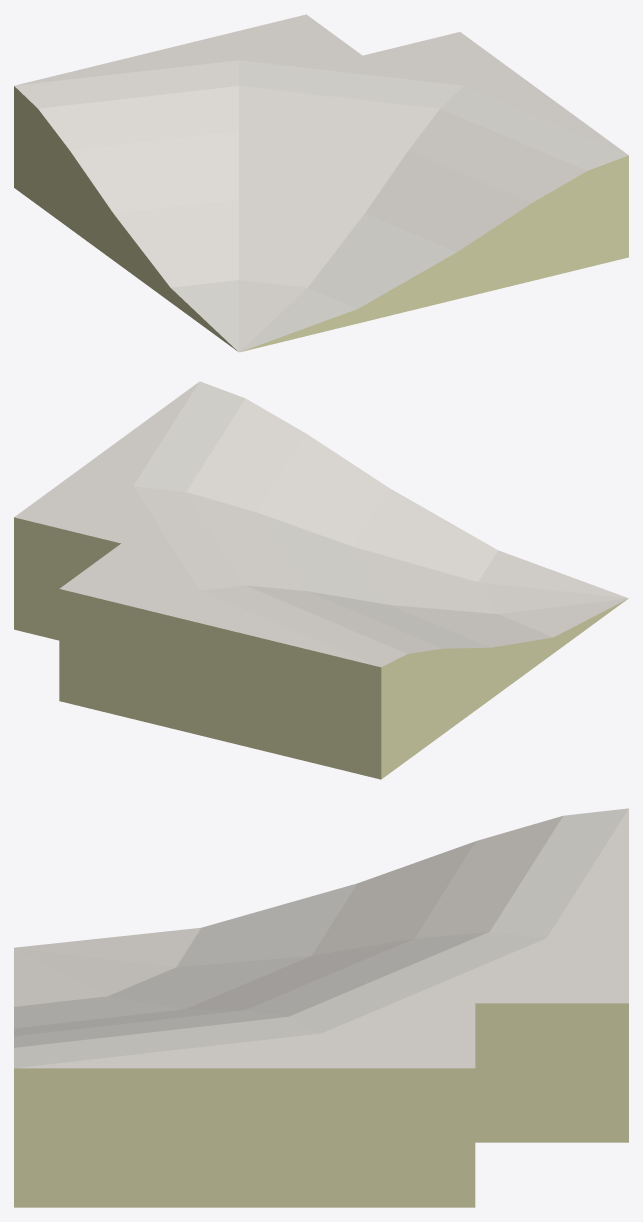
The model's file is Floor_Curve_Inner_4x4.glb.
3 renders of one model, top to bottom at view 1: azimuth 30°, elevation 25°; view 2: azimuth 150°, elevation 25°; view 3: azimuth 270°, elevation 25°, orthographic. The views are drawn at different scales.
Parts seen in each view (by area): view 1: Floor_Curve_Inner_4x4; view 2: Floor_Curve_Inner_4x4; view 3: Floor_Curve_Inner_4x4.
Boxes of the visible parts, bbox=[...] form: Floor_Curve_Inner_4x4: bbox=[14, 14, 628, 352]; Floor_Curve_Inner_4x4: bbox=[14, 381, 628, 779]; Floor_Curve_Inner_4x4: bbox=[14, 808, 628, 1207].
Size of the model in its own units: 400 by 100 by 400.
